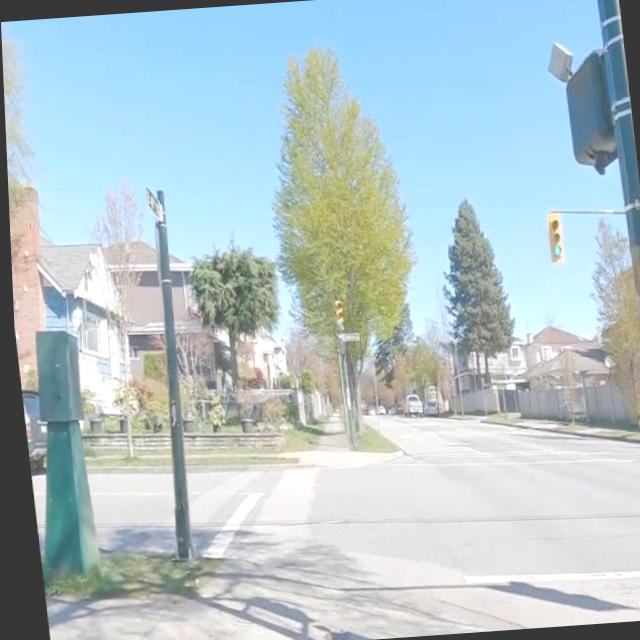Automobile: (401, 395, 418, 415), (375, 405, 382, 414)
Obstacle: (565, 0, 640, 349), (144, 189, 187, 560), (31, 329, 93, 577), (36, 553, 212, 599), (330, 298, 354, 447), (343, 332, 364, 432), (182, 431, 280, 450), (80, 433, 123, 456), (277, 426, 315, 451), (353, 425, 391, 450), (128, 432, 164, 451)
Road: (181, 415, 640, 628), (185, 470, 273, 551), (85, 472, 168, 550)
Sidewalk: (39, 560, 515, 640), (279, 410, 395, 468)
